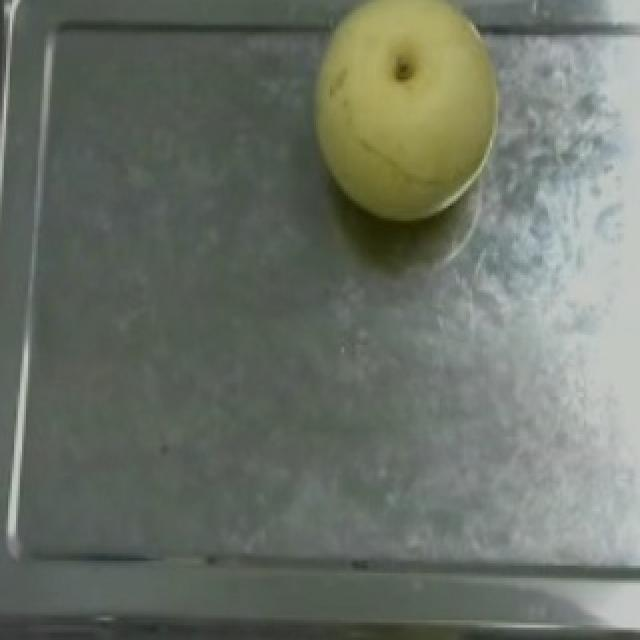Fruit: (298, 0, 512, 231)
